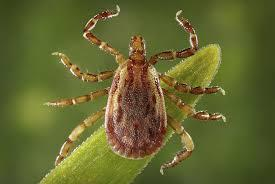insect: (38, 4, 233, 177)
